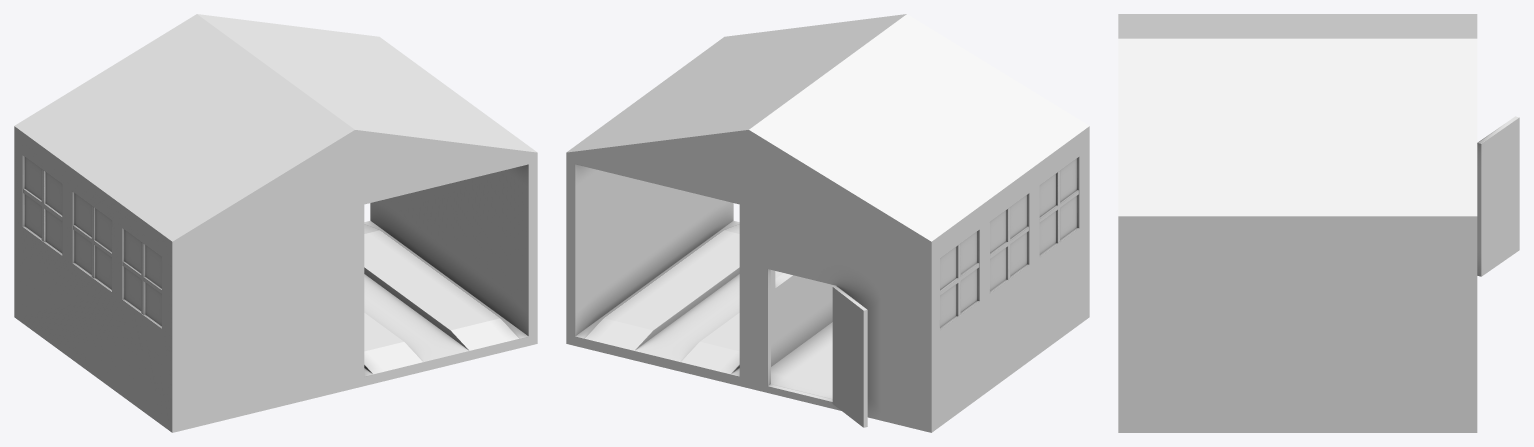
The model's file is WeighingDep.fbx.
3 renders of one model, left to right at view 1: azimuth 30°, elevation 25°; view 2: azimuth 150°, elevation 25°; view 3: azimuth 270°, elevation 25°, orthographic. The views are drawn at different scales.
Parts seen in each view (by area): view 1: Весовая; view 2: Весовая; view 3: Весовая.
Boxes of the visible parts, left/top/right/bottom form: Весовая: left=14, top=14, right=537, bottom=432; Весовая: left=566, top=14, right=1089, bottom=432; Весовая: left=1118, top=14, right=1519, bottom=432.
Bounding box in the file's own units: 0.744 × 0.5031 × 0.624.
